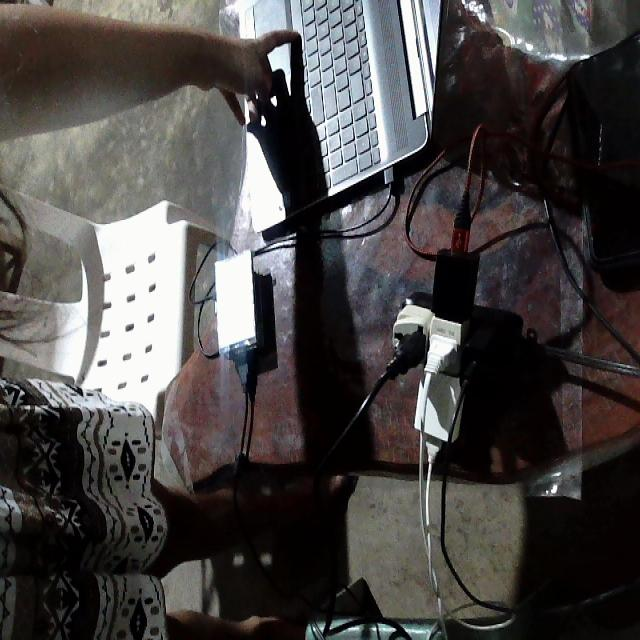-: (390, 218, 524, 458)
